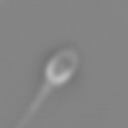normal: (8, 81, 52, 128)
